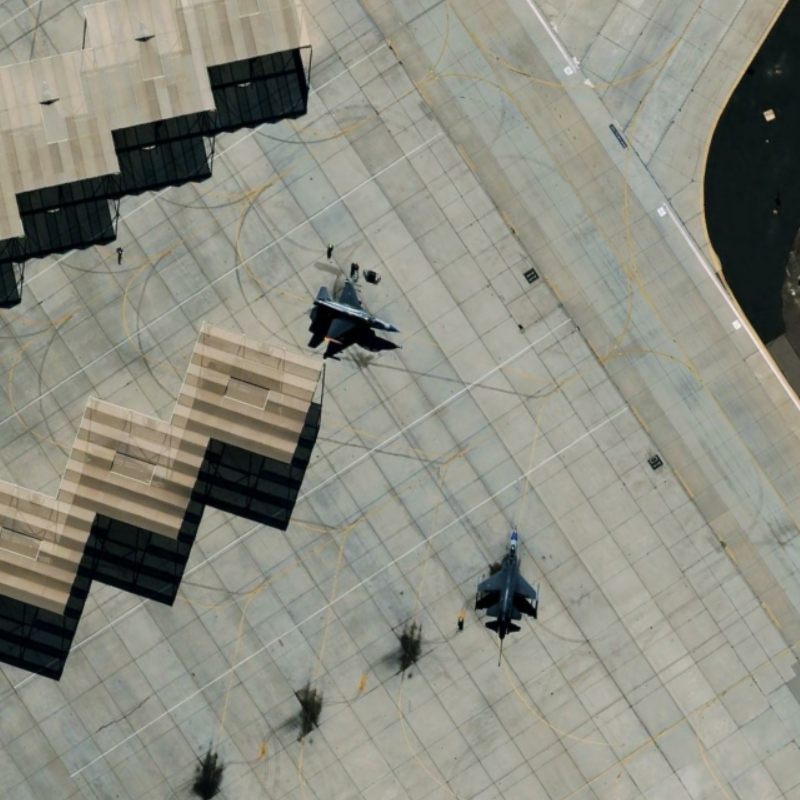A5: (307, 274, 402, 358), (468, 520, 541, 626)
